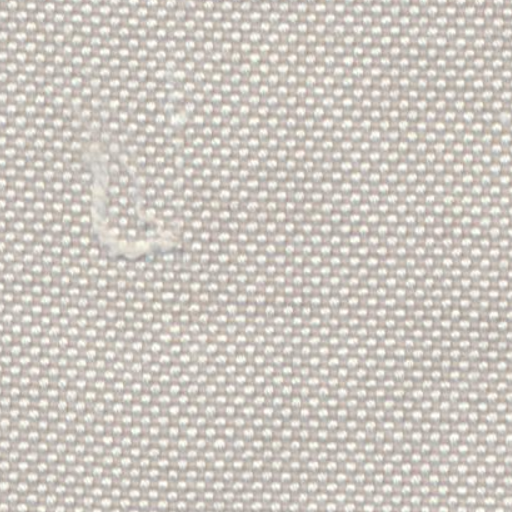DuanSha: (76, 102, 189, 266)
